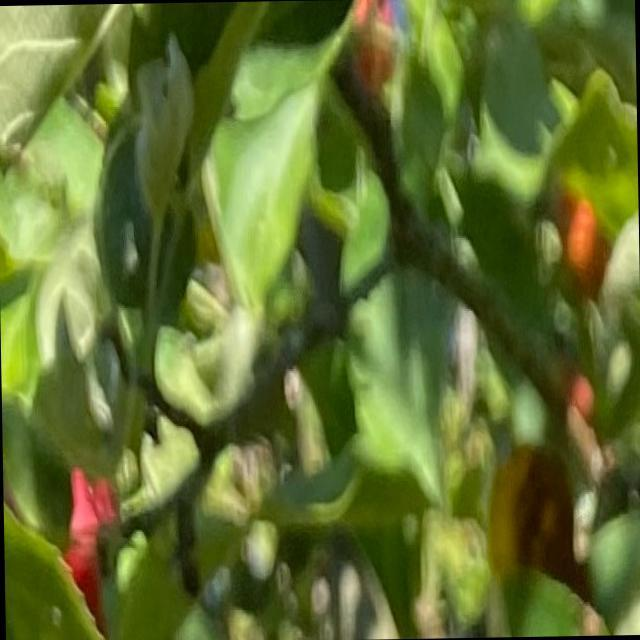Rotten Apple: (56, 469, 120, 625), (552, 182, 614, 304), (350, 0, 401, 96)
